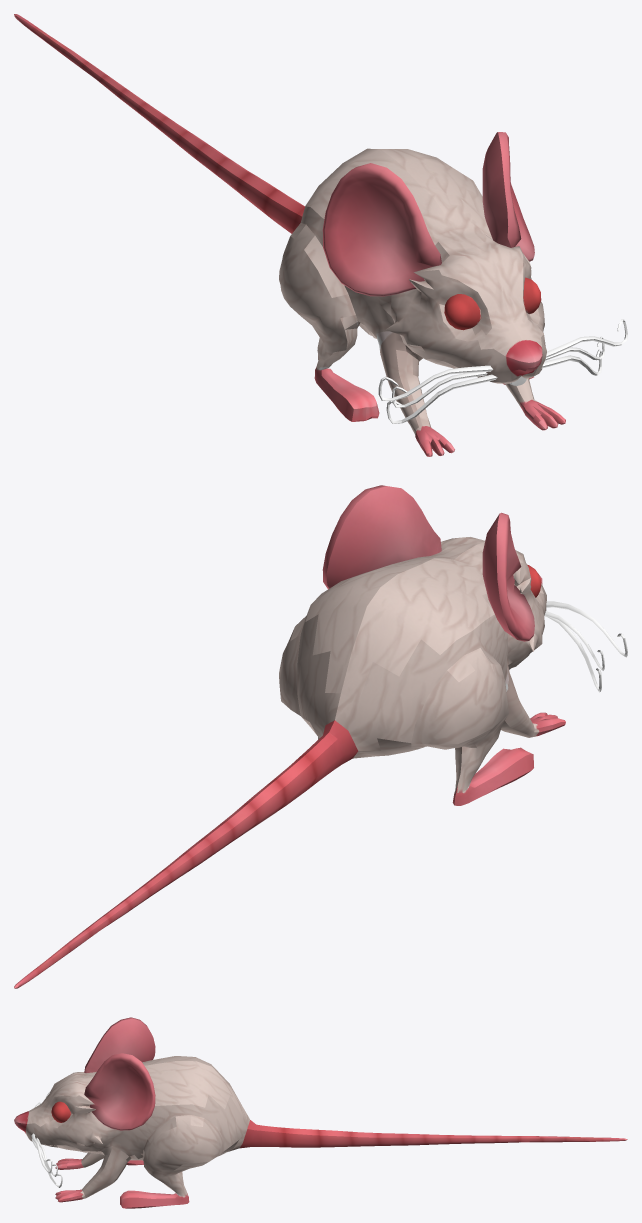
3 views of the same model, one above another, from view 1: azimuth 30°, elevation 25°; view 2: azimuth 150°, elevation 25°; view 3: azimuth 270°, elevation 25° (orthographic). The views are drawn at different scales.
Visible parts, largest first — view 1: submesh_1, submesh_0; view 2: submesh_1, submesh_0; view 3: submesh_1, submesh_0.
Part boxes in pixels (bbox=[...]): submesh_1: bbox=[14, 14, 627, 456]; submesh_0: bbox=[322, 132, 541, 330]; submesh_1: bbox=[14, 537, 627, 988]; submesh_0: bbox=[322, 485, 541, 641]; submesh_1: bbox=[14, 1056, 627, 1208]; submesh_0: bbox=[51, 1017, 155, 1130].
Bounding box in the file's own units: 0.363 × 1.32 × 0.3473.
2 materials, 2 textured.
